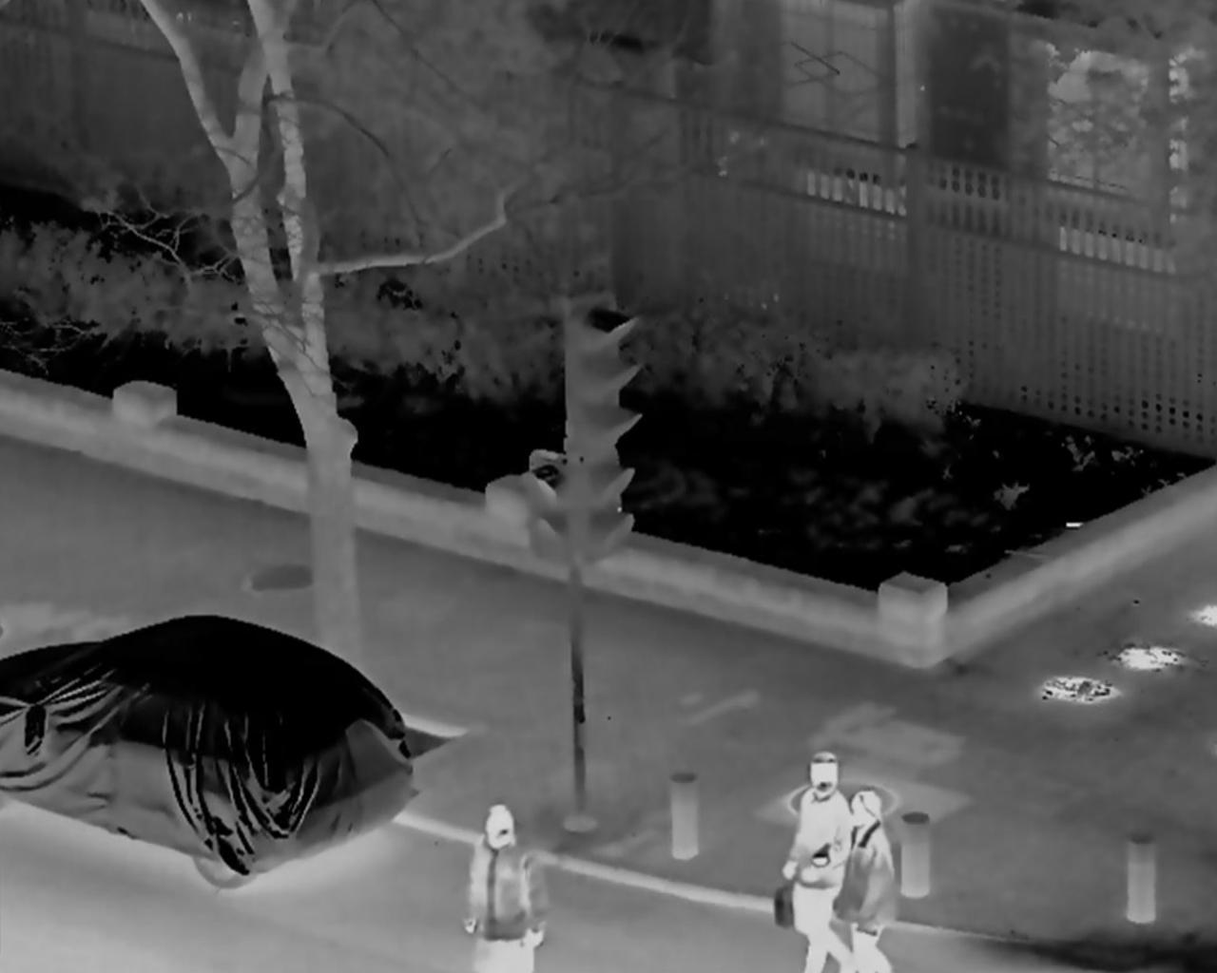person: (773, 754, 855, 973), (453, 803, 540, 973), (830, 798, 901, 973)
